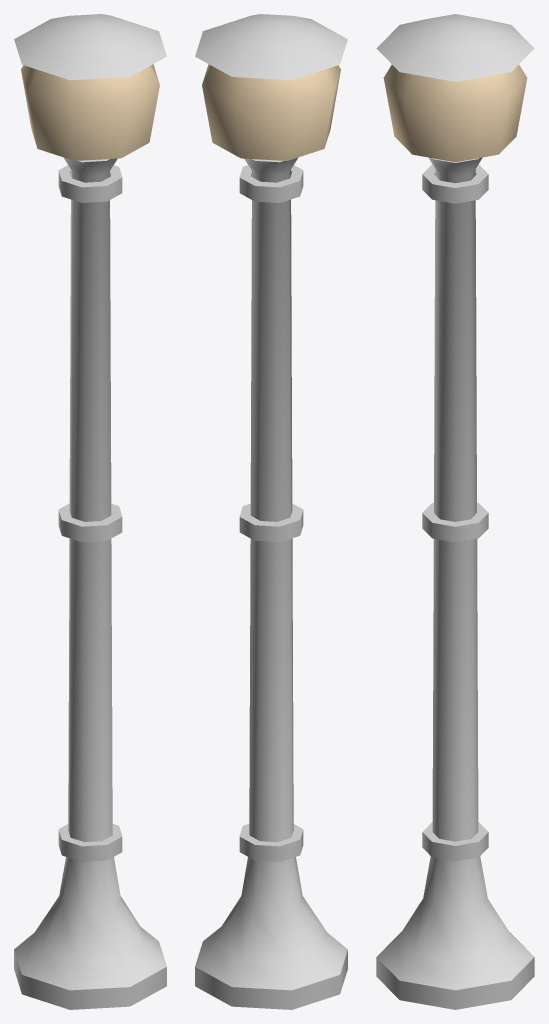
Rendered from HallLamp.glb.
3 views of the same model, side by side, from view 1: azimuth 30°, elevation 25°; view 2: azimuth 150°, elevation 25°; view 3: azimuth 270°, elevation 25° (orthographic).
Parts seen in each view (by area): view 1: Body, Glow; view 2: Body, Glow; view 3: Body, Glow.
Boxes of the visible parts, bbox=[...] form: Body: bbox=[14, 14, 166, 1009]; Glow: bbox=[21, 64, 159, 160]; Body: bbox=[195, 14, 347, 1009]; Glow: bbox=[202, 64, 340, 160]; Body: bbox=[376, 14, 534, 1009]; Glow: bbox=[383, 64, 527, 162].
Size of the model in its own units: 2.2 by 14.6 by 2.2.
